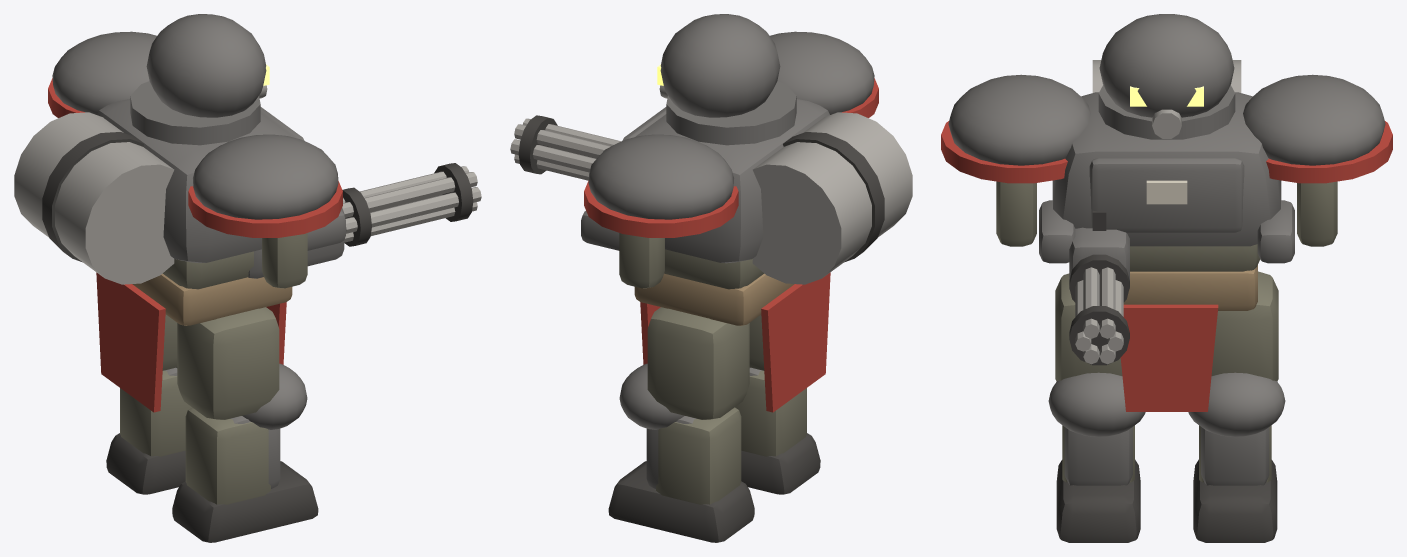
The model's file is hum_fuzileiro.glb.
3 views of the same model, side by side, from view 1: azimuth 30°, elevation 25°; view 2: azimuth 150°, elevation 25°; view 3: azimuth 270°, elevation 25° (orthographic). The views are drawn at different scales.
Parts seen in each view (by area): view 1: torso_m, knee_r_m, leg_r_m, knee_l_m, leg_l_m; view 2: torso_m, knee_l_m, leg_l_m, knee_r_m, leg_r_m; view 3: torso_m, knee_l_m, knee_r_m, leg_l_m, leg_r_m.
Boxes of the visible parts, x1,y1,x2,y2 form: torso_m: (14,14,481,412); knee_r_m: (172,363,318,542); leg_r_m: (177,307,279,419); knee_l_m: (106,367,191,494); leg_l_m: (162,314,177,370); torso_m: (510,14,912,412); knee_l_m: (608,363,754,542); leg_l_m: (647,307,749,419); knee_r_m: (735,367,820,494); leg_r_m: (749,314,764,370); torso_m: (941,14,1392,411); knee_l_m: (1188,372,1285,542); knee_r_m: (1048,372,1145,542); leg_l_m: (1211,271,1278,381); leg_r_m: (1055,273,1122,381).
Size of the model in its own units: 0.6934 by 0.81 by 0.6696.
